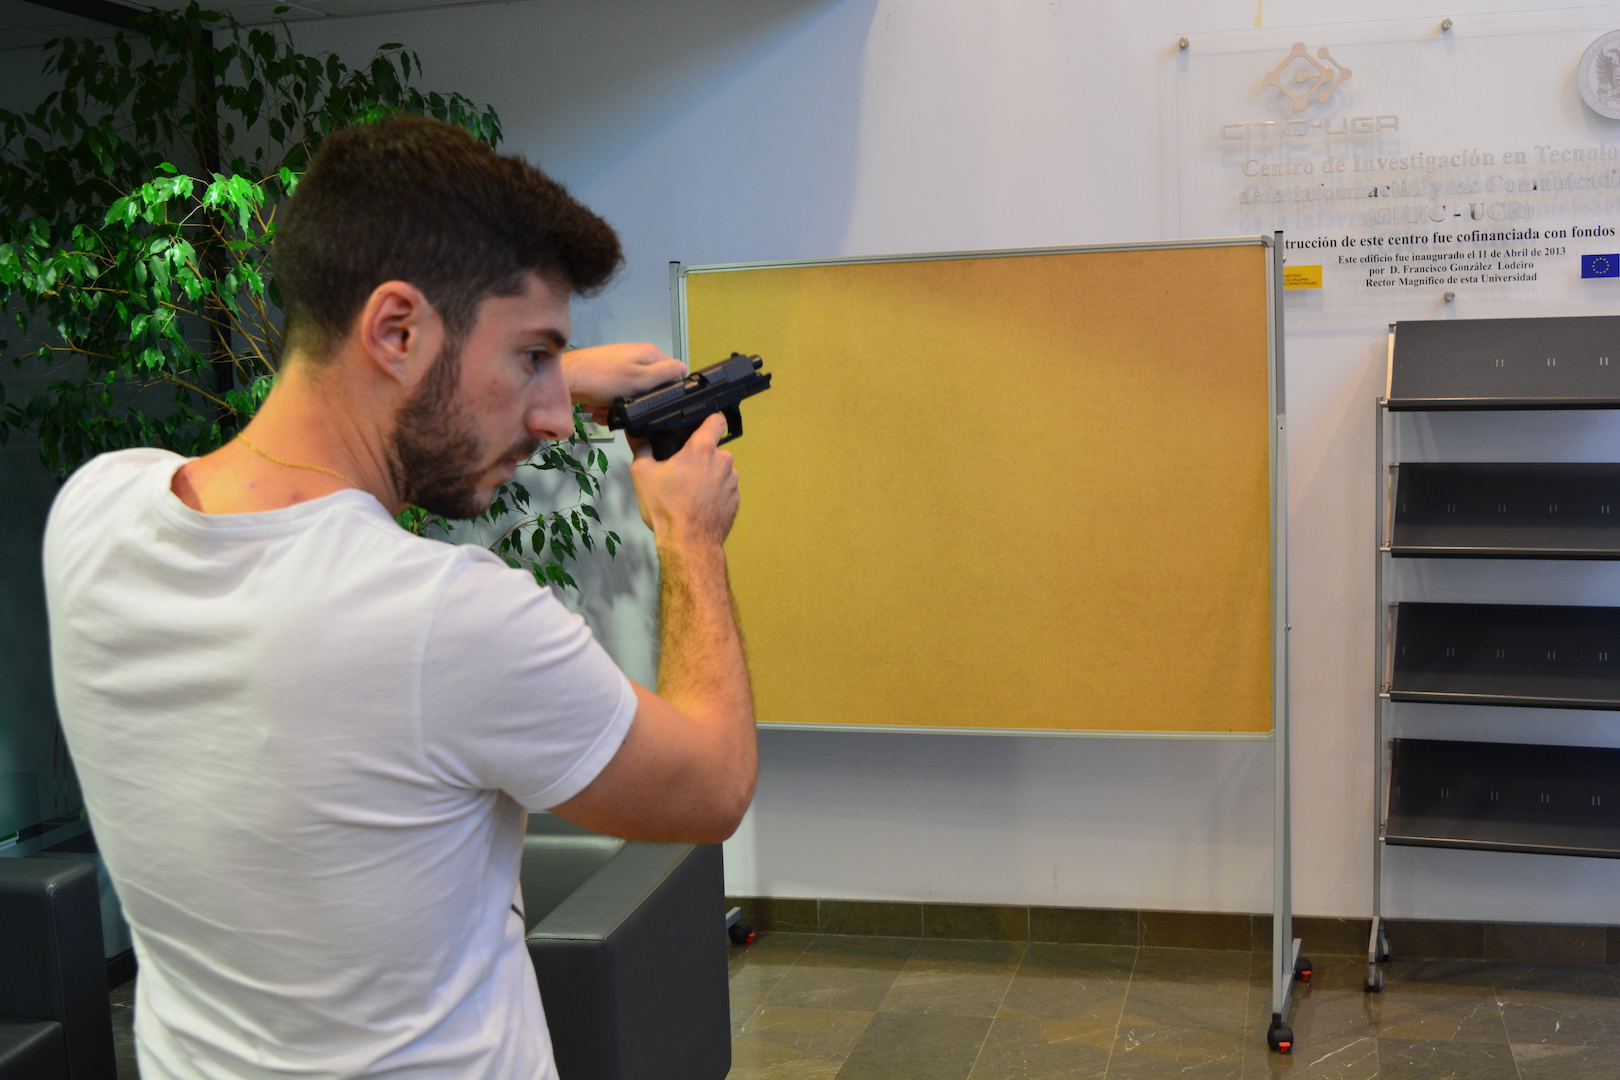pistol: (607, 351, 773, 462)
